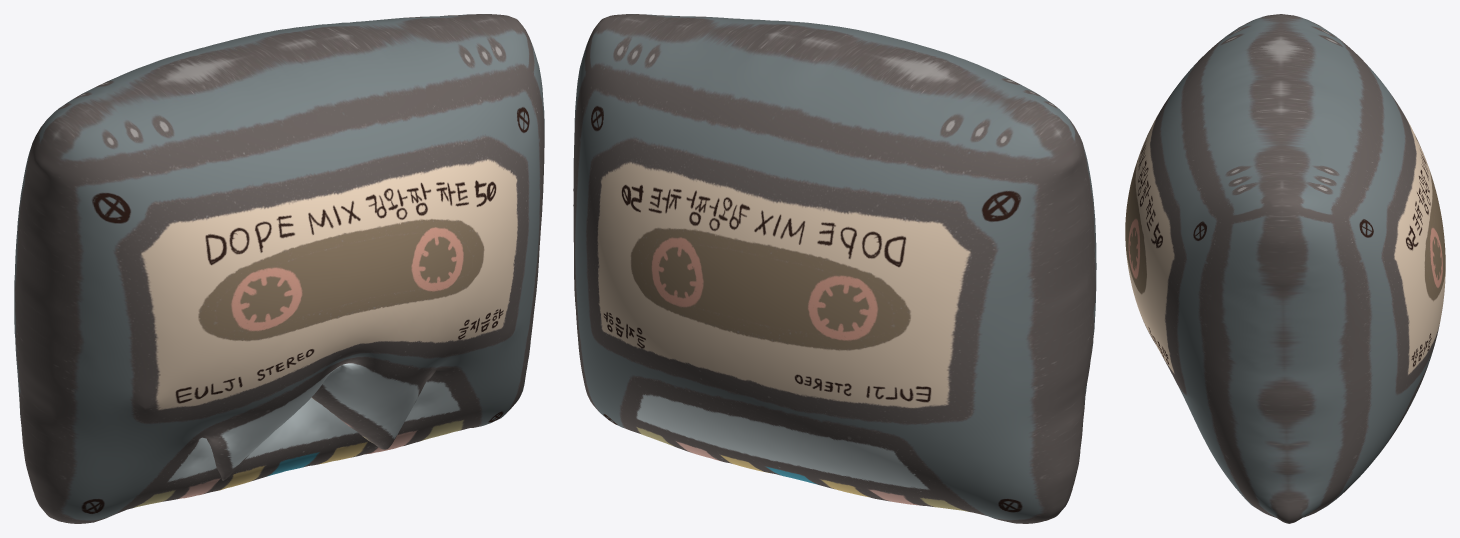
Rendered from Tape19.0c493c9c.glb.
The picture shows the model from 3 angles, left to right: view 1: azimuth 30°, elevation 25°; view 2: azimuth 150°, elevation 25°; view 3: azimuth 270°, elevation 25°; orthographic projection. The views are drawn at different scales.
Bounding box in the file's own units: 7.59 × 6.29 × 5.1.
1 material, 1 textured.
